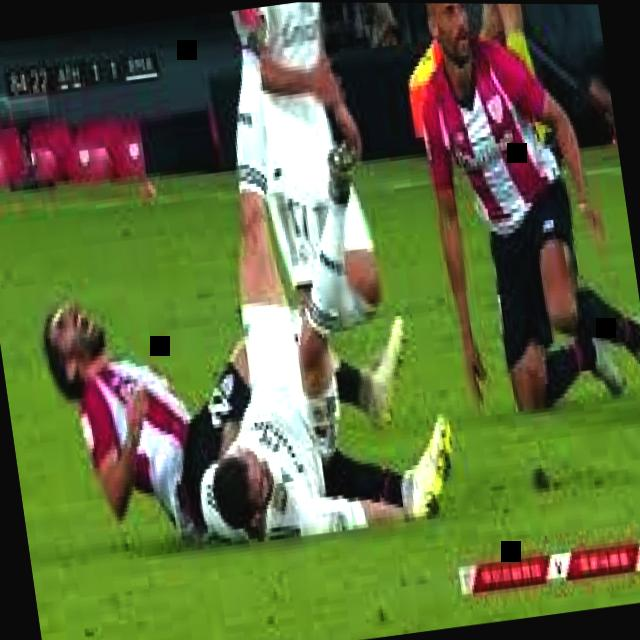Fall-Detected: (384, 2, 640, 449)
